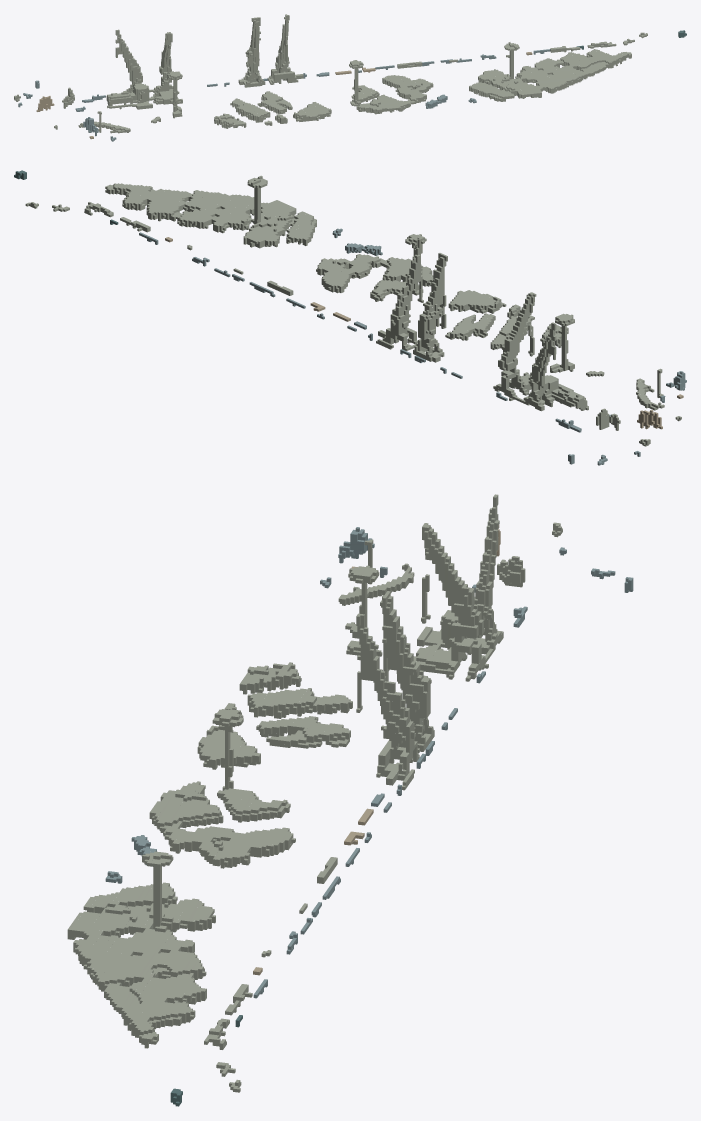
3 renders of one model, top to bottom at view 1: azimuth 30°, elevation 25°; view 2: azimuth 150°, elevation 25°; view 3: azimuth 270°, elevation 25°, orthographic. The views are drawn at different scales.
Visible parts, largest first — view 1: measured-industrial; view 2: measured-industrial; view 3: measured-industrial.
Part boxes in pixels (x1,y1,x2,y2): measured-industrial: [14, 14, 686, 141]; measured-industrial: [14, 170, 686, 465]; measured-industrial: [67, 494, 633, 1106].
Size of the model in its own units: 566 by 73.9 by 240.
